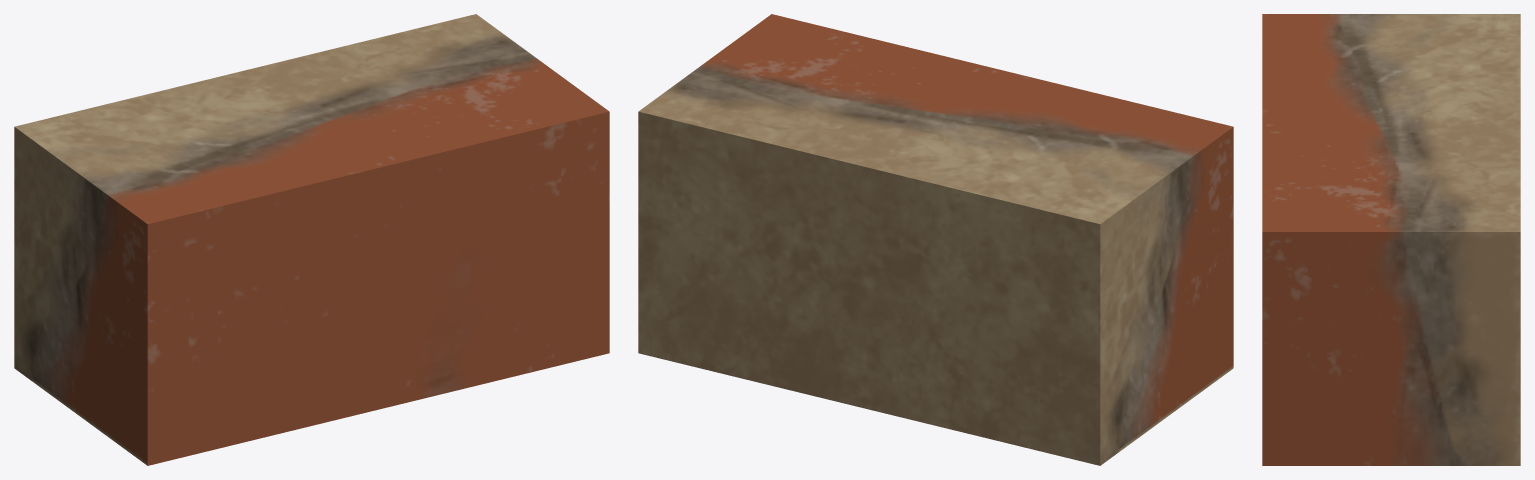
The model's file is groundchange_dirt_sand_alt.fbx.
3 renders of one model, left to right at view 1: azimuth 30°, elevation 25°; view 2: azimuth 150°, elevation 25°; view 3: azimuth 270°, elevation 25°, orthographic. The views are drawn at different scales.
Visible parts, largest first — view 1: desert_ground_sanddirt10; view 2: desert_ground_sanddirt10; view 3: desert_ground_sanddirt10.
Part boxes in pixels (box(x1,y1,x2,y2)): desert_ground_sanddirt10: box(14, 14, 609, 465); desert_ground_sanddirt10: box(638, 14, 1233, 465); desert_ground_sanddirt10: box(1262, 14, 1520, 465).
Size of the model in its own units: 200 by 100 by 100.
